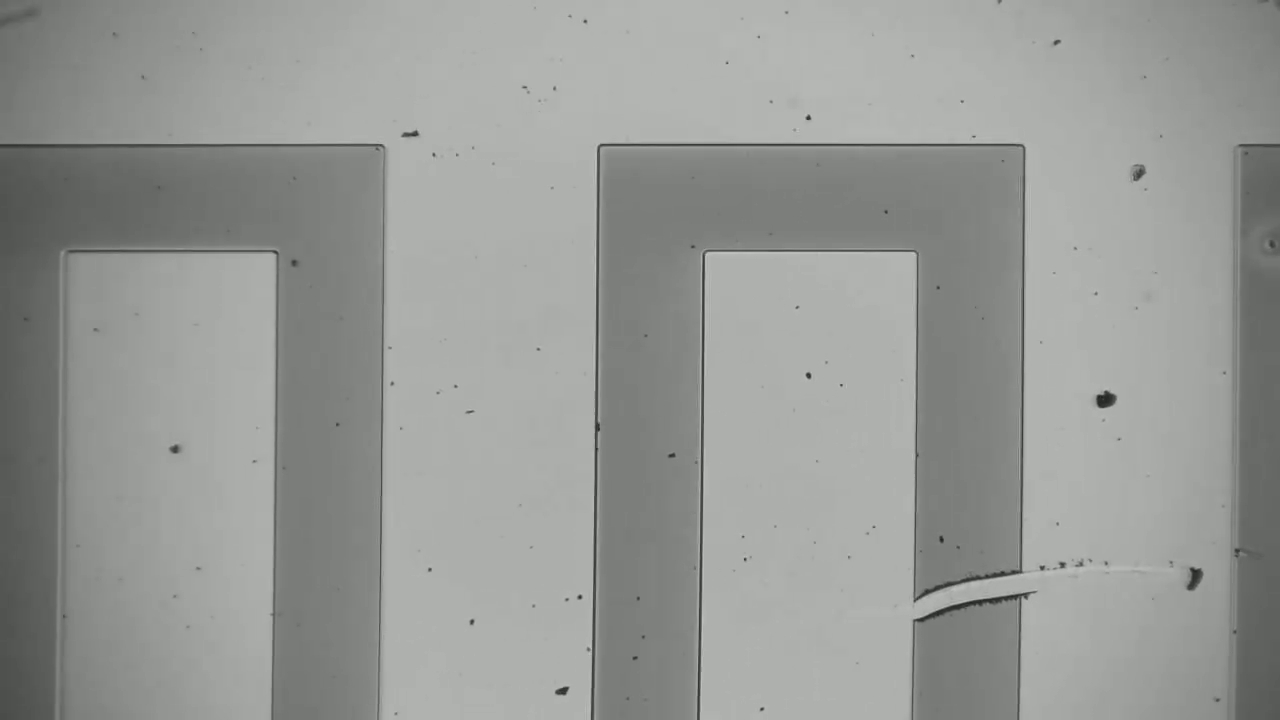Short_circuit: (888, 547, 1050, 643)
